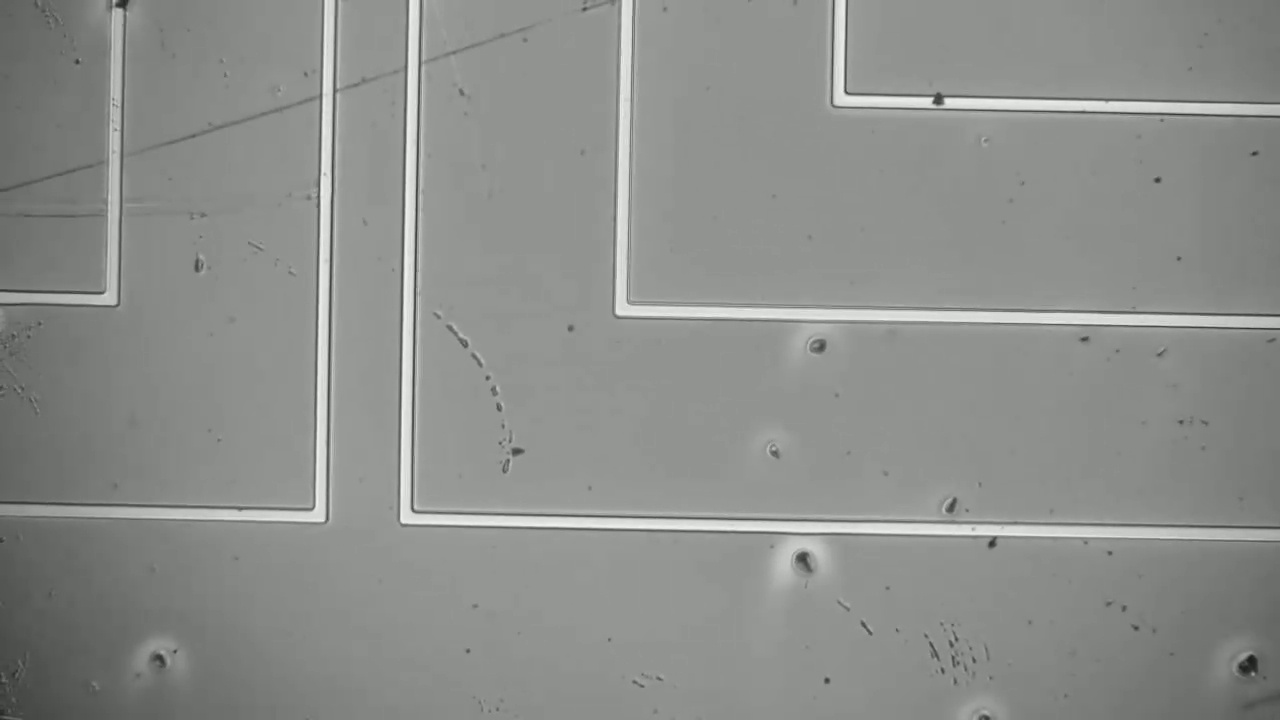scratch: (9, 7, 606, 193), (443, 322, 515, 466)
stains_enbedded: (925, 86, 950, 117)
